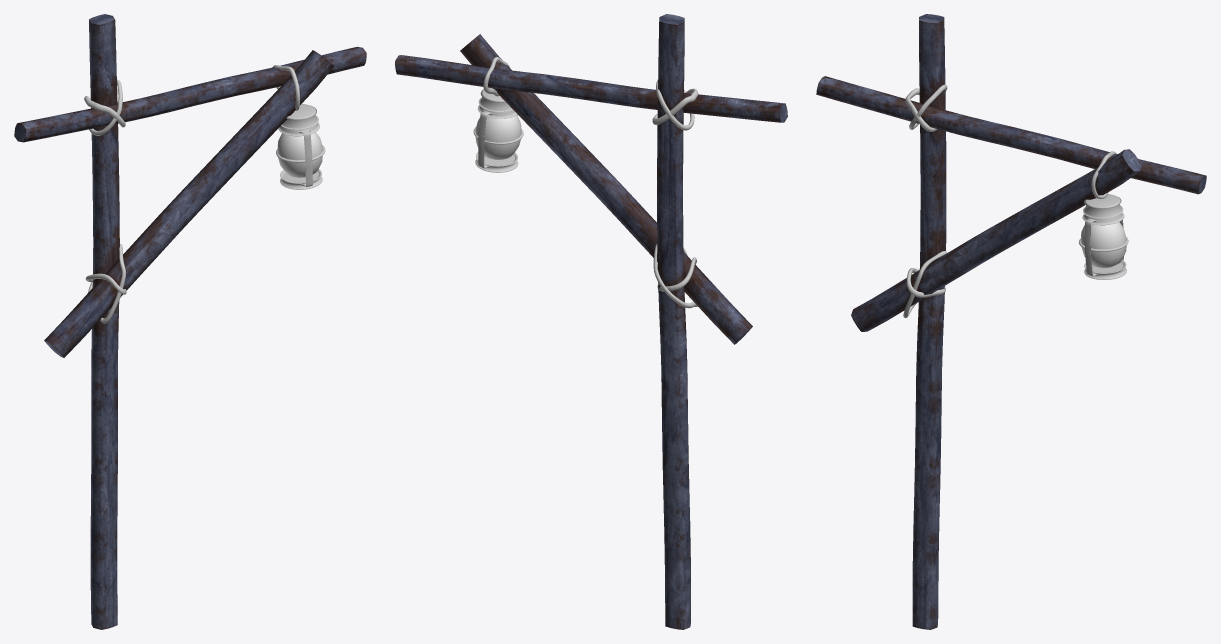
Rendered from LampPost.fbx.
3 renders of one model, left to right at view 1: azimuth 30°, elevation 25°; view 2: azimuth 150°, elevation 25°; view 3: azimuth 330°, elevation 25°, orthographic.
Parts seen in each view (by area): view 1: LampPost; view 2: LampPost; view 3: LampPost.
Boxes of the visible parts, left/top/right/bottom form: LampPost: left=14, top=14, right=366, bottom=629; LampPost: left=395, top=14, right=787, bottom=629; LampPost: left=816, top=14, right=1206, bottom=629.
Bounding box in the file's own units: 218 × 345 × 37.48.
